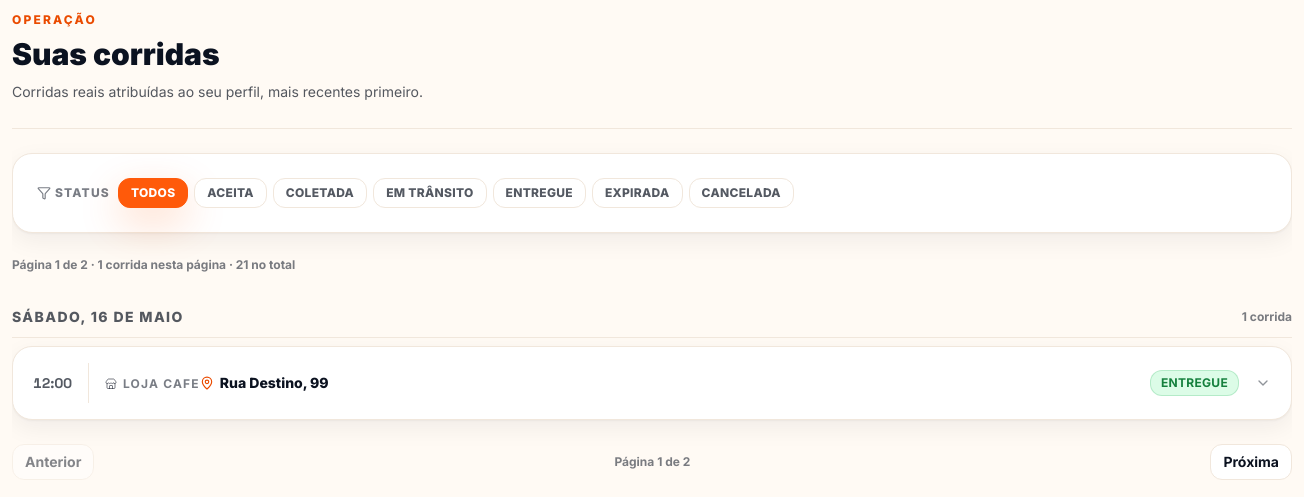
HistoricoMotoboy › paginates through the real API result
Check: the text "Loja Cafe" is shown, box left=105, top=376, right=200, bottom=392
Click the button "Próxima": click(1251, 462) left=1210, top=444, right=1292, bottom=480
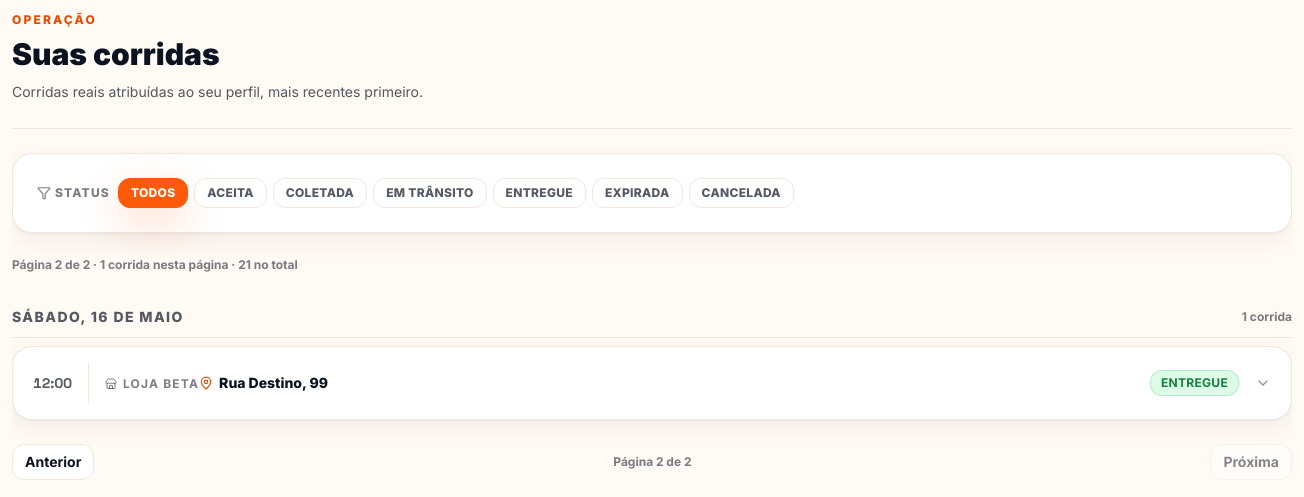
Check: the text "Loja Beta" is shown, box left=105, top=376, right=199, bottom=392
